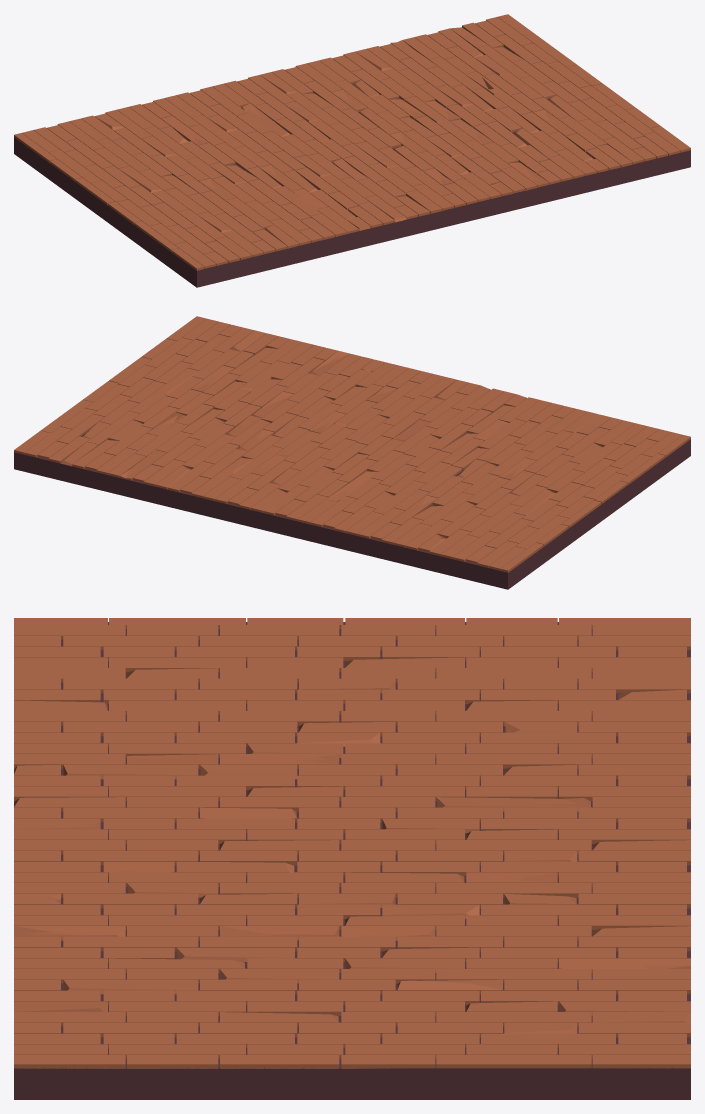
File: chão.fbx
The picture shows the model from 3 angles, top to bottom: view 1: azimuth 30°, elevation 25°; view 2: azimuth 150°, elevation 25°; view 3: azimuth 270°, elevation 25°; orthographic projection. The views are drawn at different scales.
Visible parts, largest first — view 1: Cube.001; view 2: Cube.001; view 3: Cube.001.
Part boxes in pixels (box(x1,y1,x2,y2)): Cube.001: box(14, 14, 690, 287); Cube.001: box(14, 316, 690, 589); Cube.001: box(14, 618, 690, 1099).
Bounding box in the file's own units: 16.15 × 0.6581 × 10.35.
